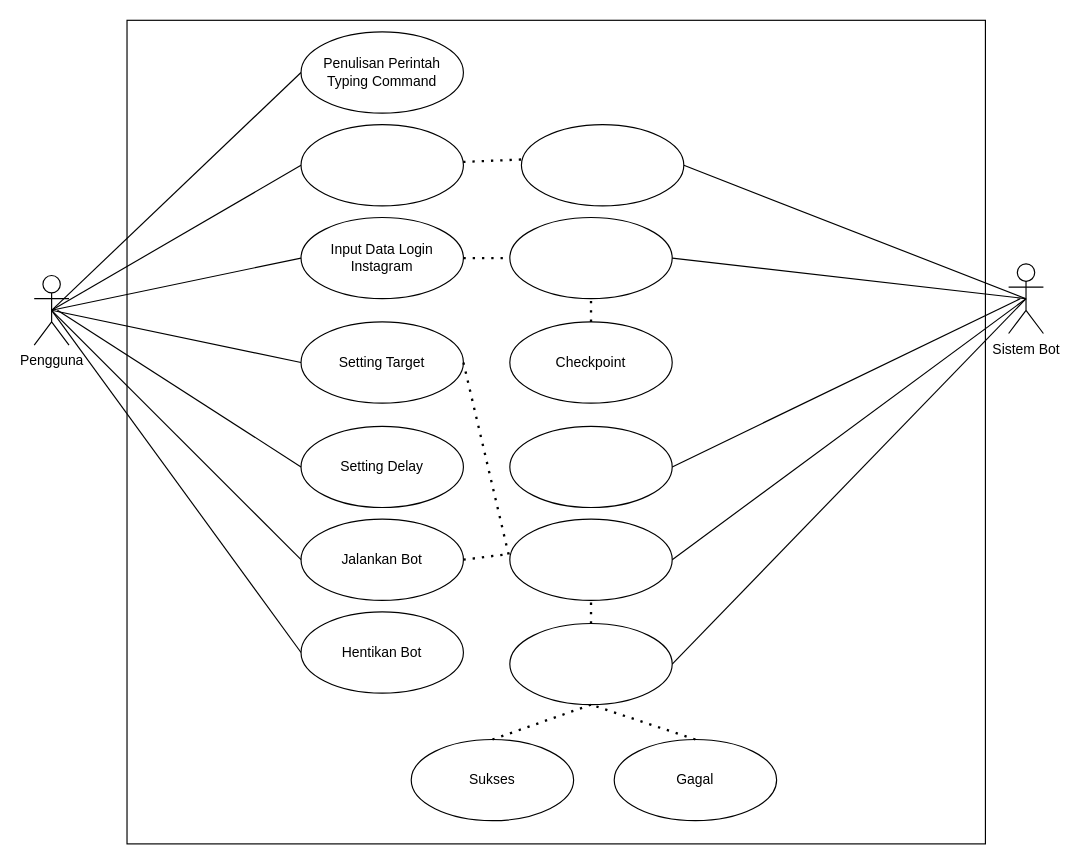
Image size: 1080x864. Some labels were removed from this diagram. The shapes that lost their labels are listed below. From the top down, each one's box as (x1, y1, x2, y2) in pixels, then its label:
(300, 124, 463, 206): Pilih Fitur
(520, 124, 684, 206): Tampil Fitur
(509, 216, 672, 299): Validasi Info Login
(509, 425, 672, 507): Delay
(509, 518, 672, 600): Ambil Data
(509, 622, 672, 705): Hasil
